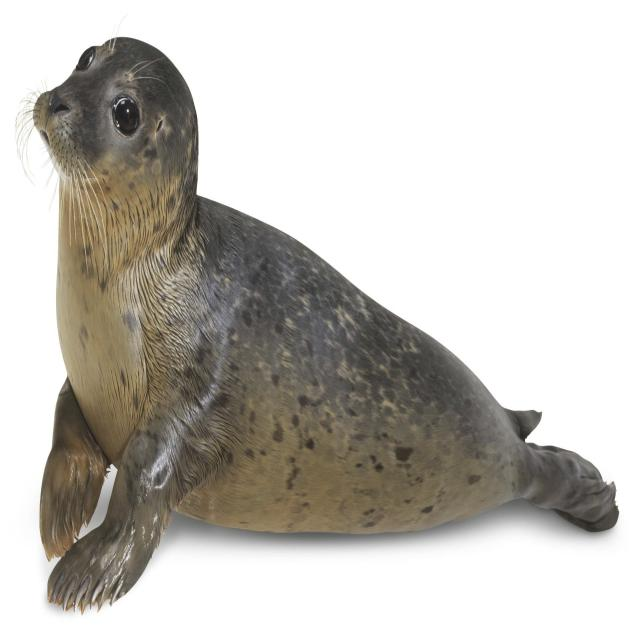seal: (23, 37, 618, 611)
